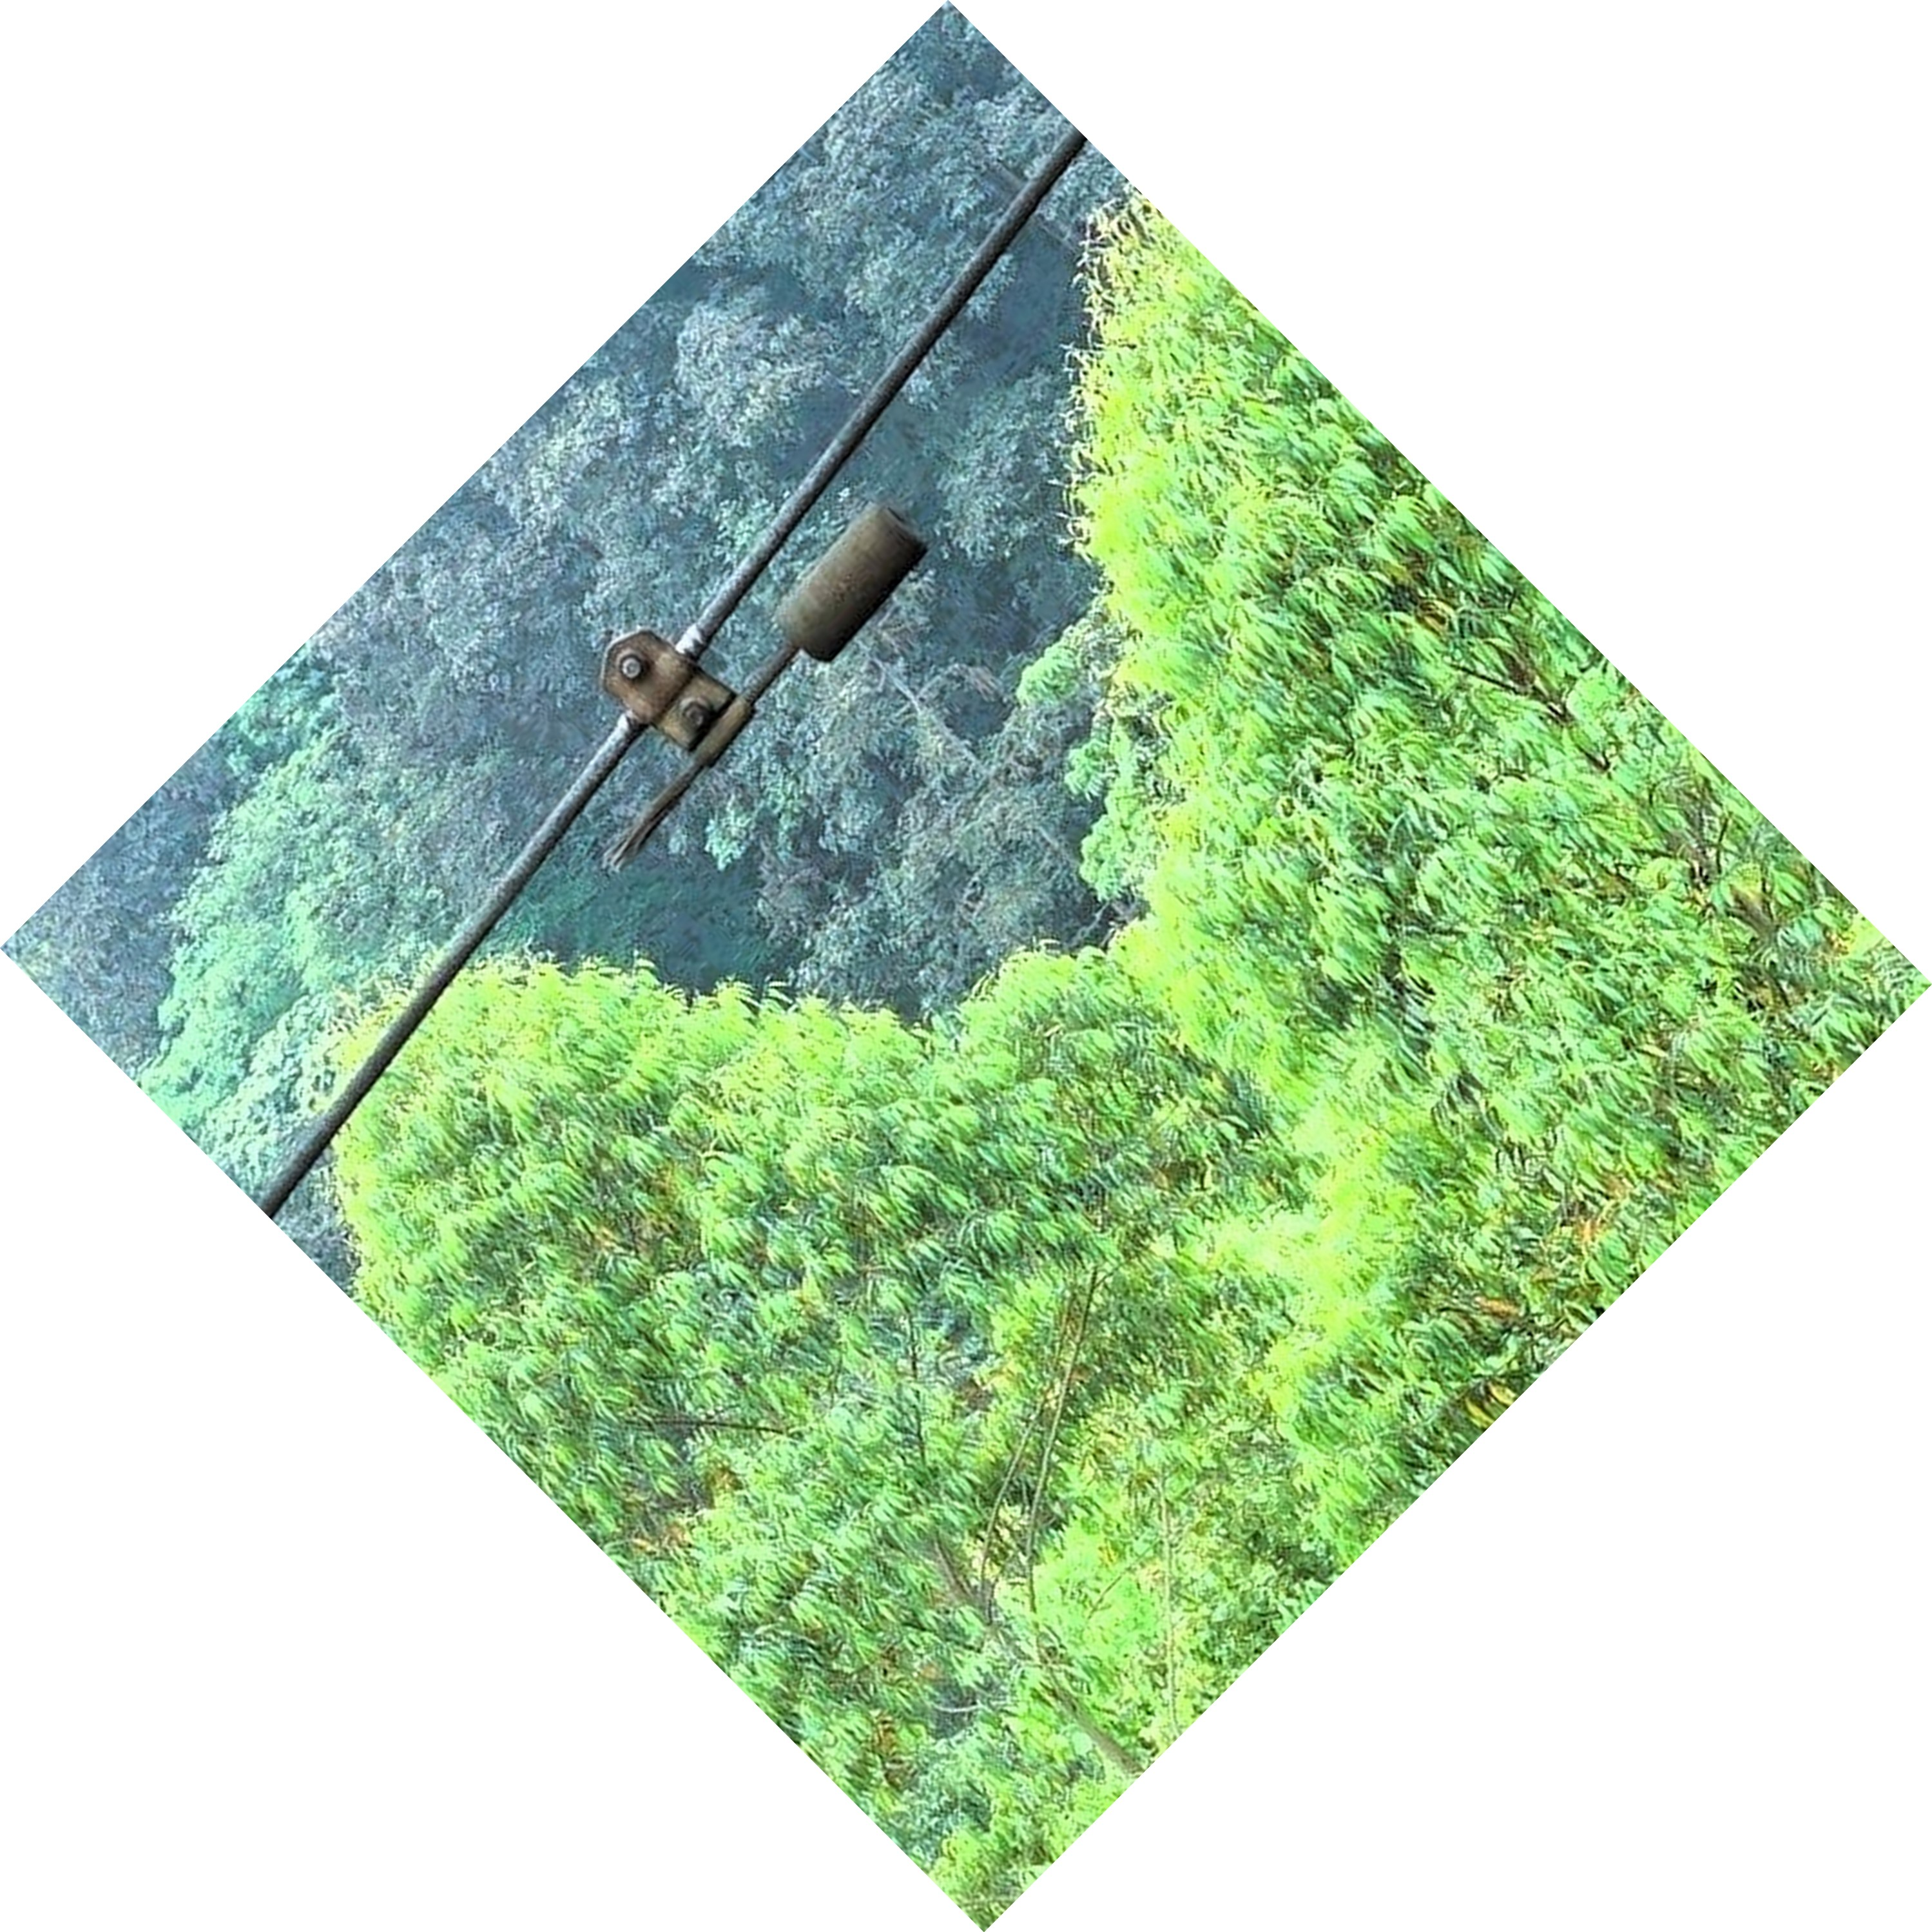Damage of shockproof hammer: (538, 478, 957, 906)
